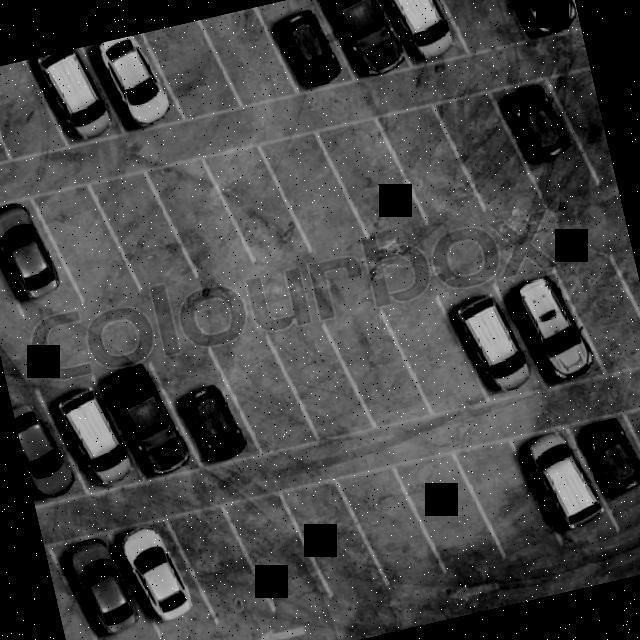space-empty: (96, 350, 214, 490), (257, 124, 377, 261), (371, 100, 498, 227), (149, 153, 265, 288), (321, 308, 435, 432), (207, 333, 321, 454), (227, 491, 335, 616), (455, 439, 571, 555), (339, 461, 446, 586), (558, 255, 640, 376)
space-occupied: (438, 274, 558, 403), (489, 81, 604, 203), (78, 31, 200, 145), (109, 518, 219, 640), (48, 530, 151, 640), (257, 0, 363, 101), (0, 193, 83, 319), (9, 388, 88, 510), (318, 0, 425, 81), (511, 0, 581, 41)
